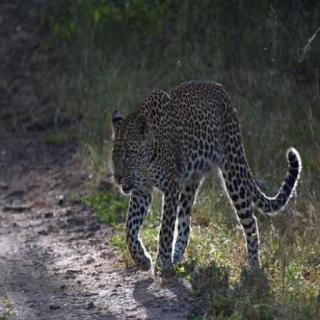Leopard: (53, 67, 320, 292)
